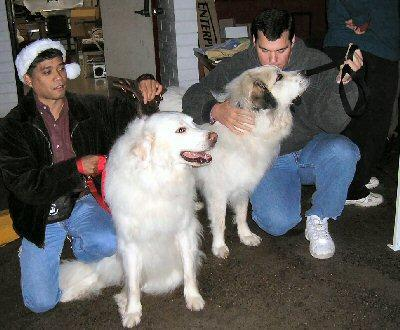Great_Pyrenees: (101, 108, 219, 329), (203, 65, 297, 260)
